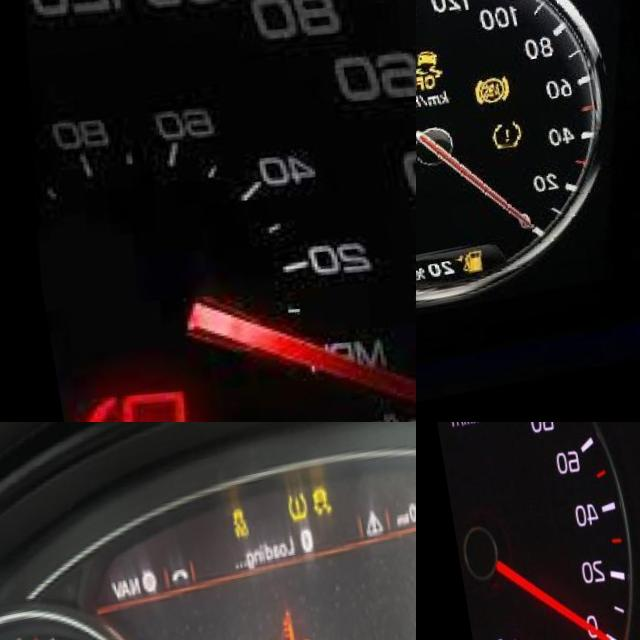High Engine Coolant Temperature: (256, 615, 305, 640)
